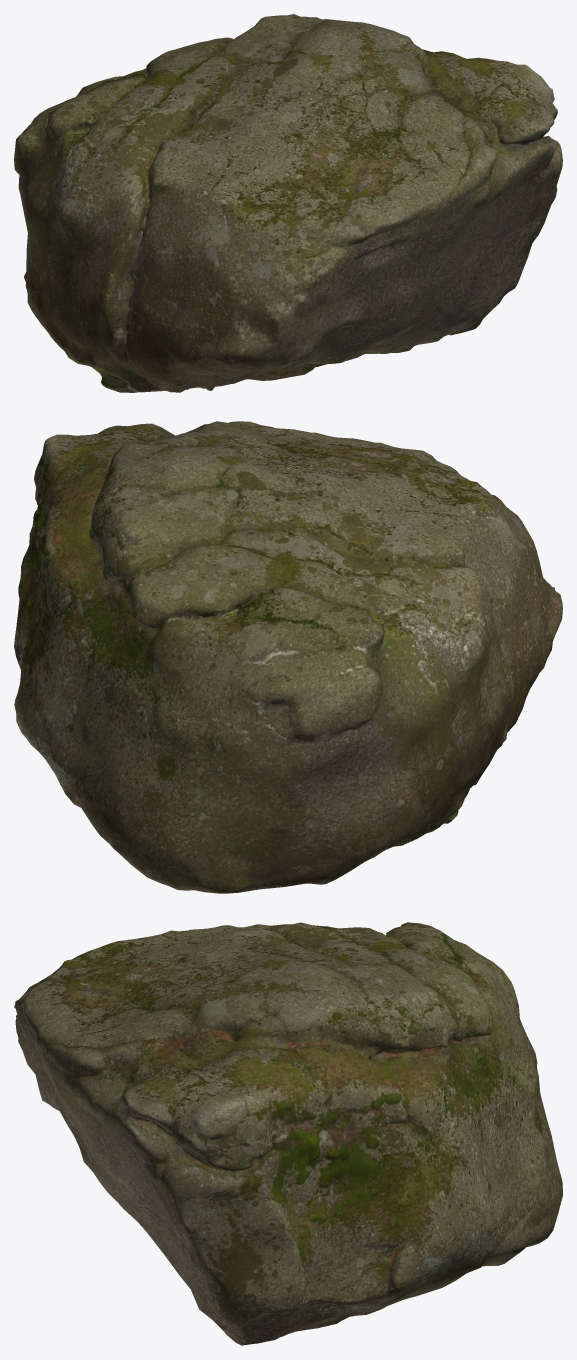
3 views of the same model, one above another, from view 1: azimuth 30°, elevation 25°; view 2: azimuth 150°, elevation 25°; view 3: azimuth 270°, elevation 25° (orthographic). The views are drawn at different scales.
Visible parts, largest first — view 1: wfstcdnaw_LOD0_TIER1_000; view 2: wfstcdnaw_LOD0_TIER1_000; view 3: wfstcdnaw_LOD0_TIER1_000.
Boxes of the visible parts, <box> form: wfstcdnaw_LOD0_TIER1_000: <box>14,14,562,392</box>; wfstcdnaw_LOD0_TIER1_000: <box>14,421,562,893</box>; wfstcdnaw_LOD0_TIER1_000: <box>14,922,562,1345</box>.
Size of the model in its own units: 1.98 by 1.29 by 1.98.
Materials: 1 (1 with a texture image).
